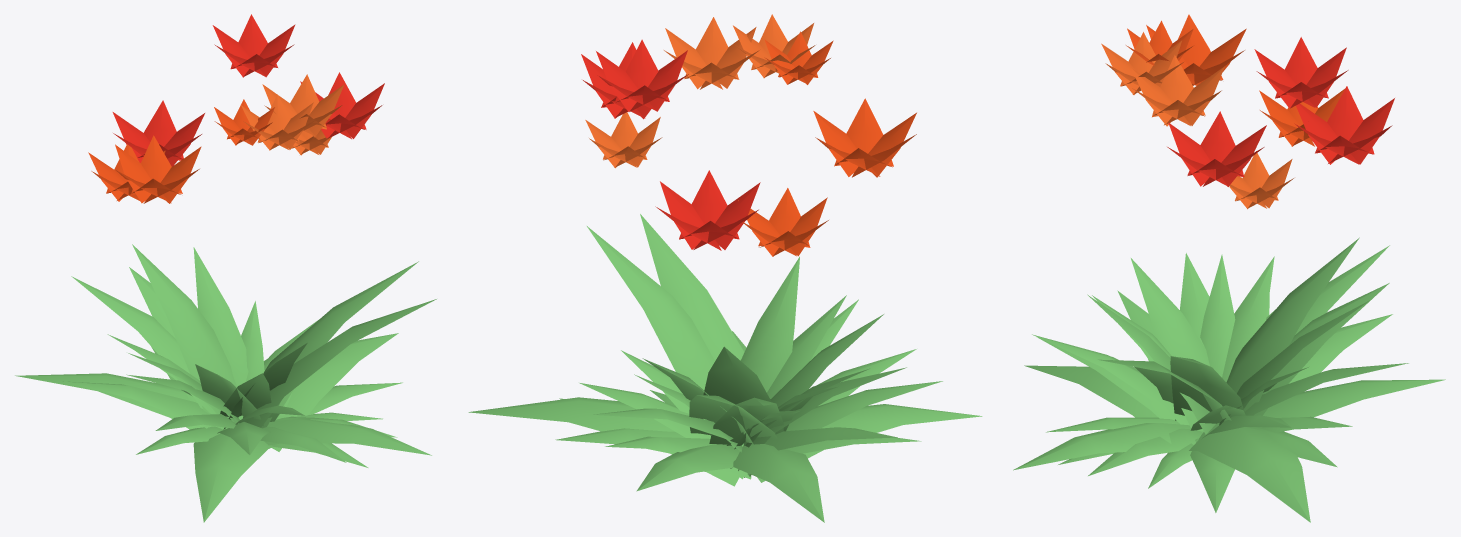
The model's file is SM_Veg_06_FlowerCluster.fbx.
3 views of the same model, side by side, from view 1: azimuth 30°, elevation 25°; view 2: azimuth 150°, elevation 25°; view 3: azimuth 270°, elevation 25° (orthographic). The views are drawn at different scales.
Visible parts, largest first — view 1: SM_Veg_06_FlowerCluster; view 2: SM_Veg_06_FlowerCluster; view 3: SM_Veg_06_FlowerCluster.
Boxes of the visible parts, box(x1,y1,x2,y2) form: SM_Veg_06_FlowerCluster: box(15, 14, 436, 522); SM_Veg_06_FlowerCluster: box(468, 14, 982, 522); SM_Veg_06_FlowerCluster: box(1013, 14, 1445, 522).
Size of the model in its own units: 61.5 by 60 by 57.38.
